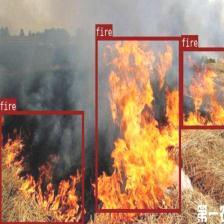fire: (95, 36, 180, 212), (0, 110, 84, 224), (180, 46, 224, 127)
